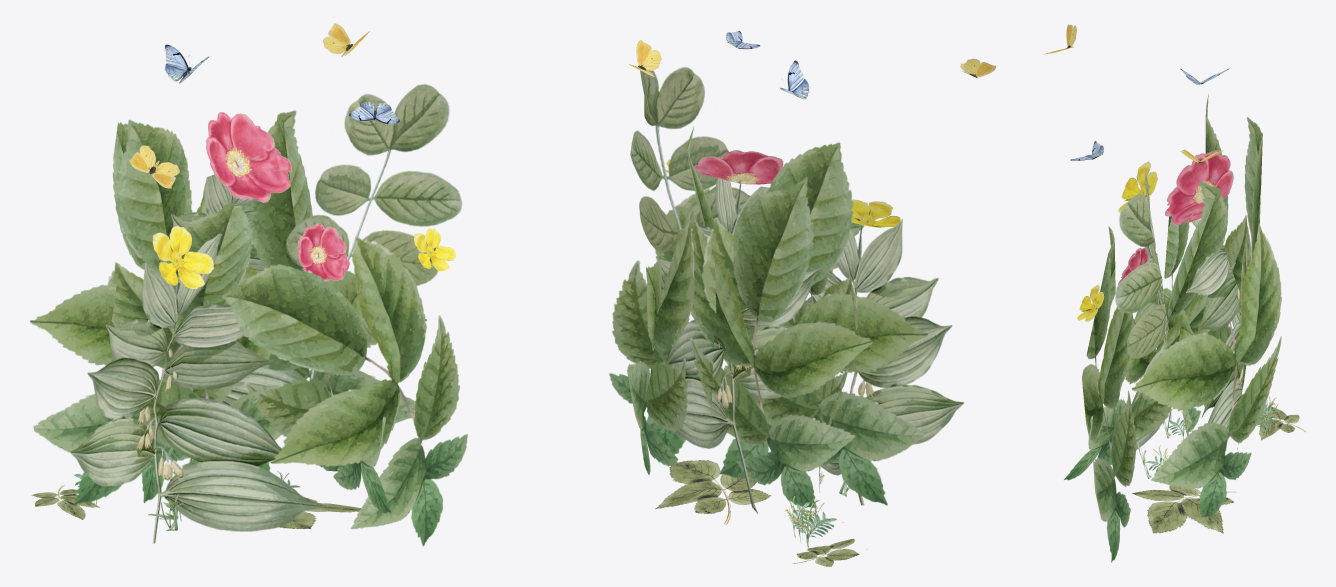
File: plants_and_flowers_for_videogames.glb
3 renders of one model, left to right at view 1: azimuth 30°, elevation 25°; view 2: azimuth 150°, elevation 25°; view 3: azimuth 270°, elevation 25°, orthographic. The views are drawn at different scales.
Parts seen in each view (by area): view 1: Object_2; view 2: Object_2; view 3: Object_2.
Boxes of the visible parts, <box> form: Object_2: <box>29,23,467,546</box>; Object_2: <box>609,30,995,566</box>; Object_2: <box>1043,24,1306,562</box>.
Size of the model in its own units: 2.2 by 2.37 by 1.41.
Materials: 1 (1 with a texture image).
